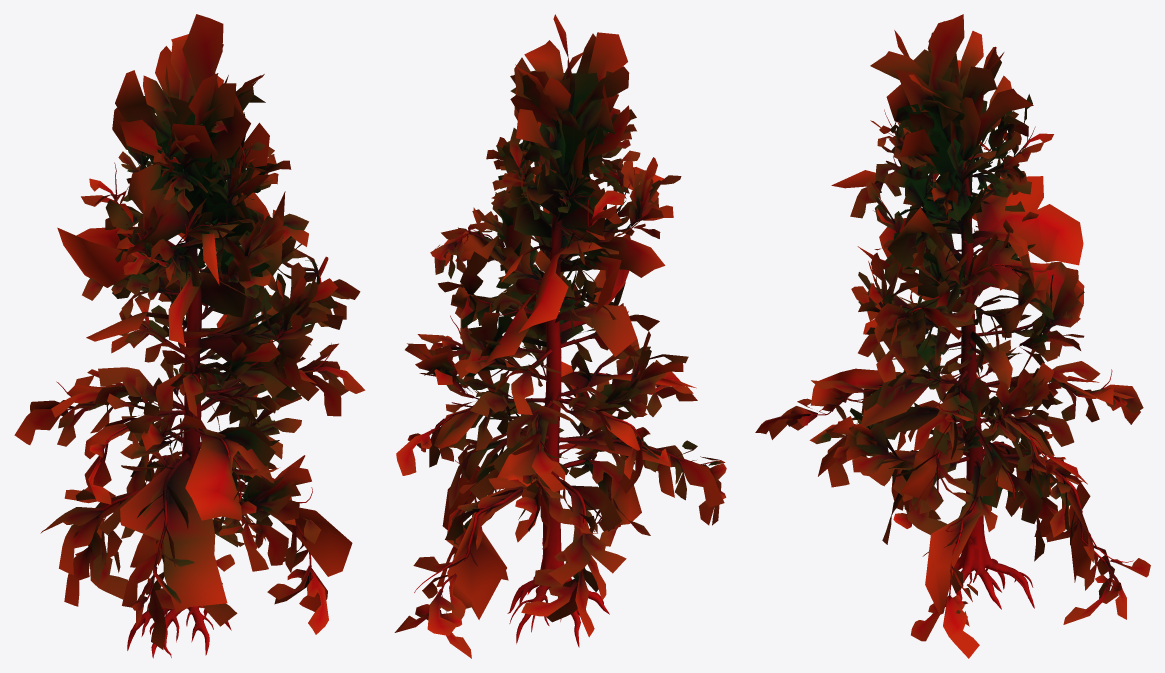
File: JuniperGCATA_F_Dry.fbx
3 views of the same model, side by side, from view 1: azimuth 30°, elevation 25°; view 2: azimuth 150°, elevation 25°; view 3: azimuth 270°, elevation 25° (orthographic). The views are drawn at different scales.
Visible parts, largest first — view 1: JuniperGCATAF_Leaves_Dry_LOD0, JuniperGCATAF_Bark_Dry_LOD0; view 2: JuniperGCATAF_Leaves_Dry_LOD0, JuniperGCATAF_Bark_Dry_LOD0; view 3: JuniperGCATAF_Leaves_Dry_LOD0, JuniperGCATAF_Bark_Dry_LOD0.
Boxes of the visible parts, x1,y1,x2,y2 form: JuniperGCATAF_Leaves_Dry_LOD0: (14,14,365,649); JuniperGCATAF_Bark_Dry_LOD0: (56,140,331,658); JuniperGCATAF_Leaves_Dry_LOD0: (394,14,726,658); JuniperGCATAF_Bark_Dry_LOD0: (414,157,682,647); JuniperGCATAF_Leaves_Dry_LOD0: (755,14,1150,658); JuniperGCATAF_Bark_Dry_LOD0: (810,109,1133,609).
Size of what is drawn, in the model's own units: 10.31 by 22.55 by 13.54.
